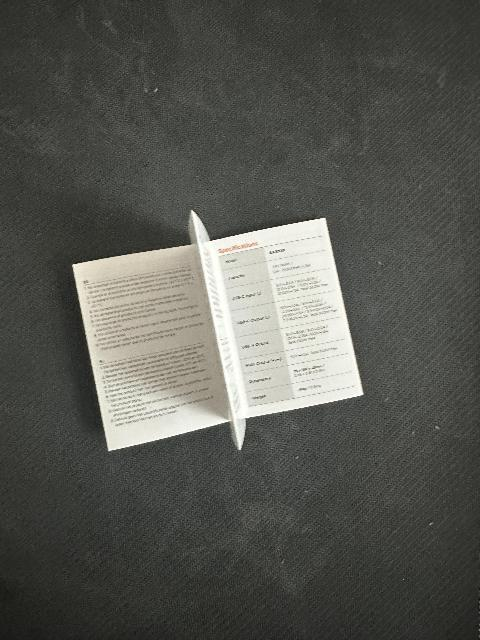Kagit: (70, 213, 368, 461)
